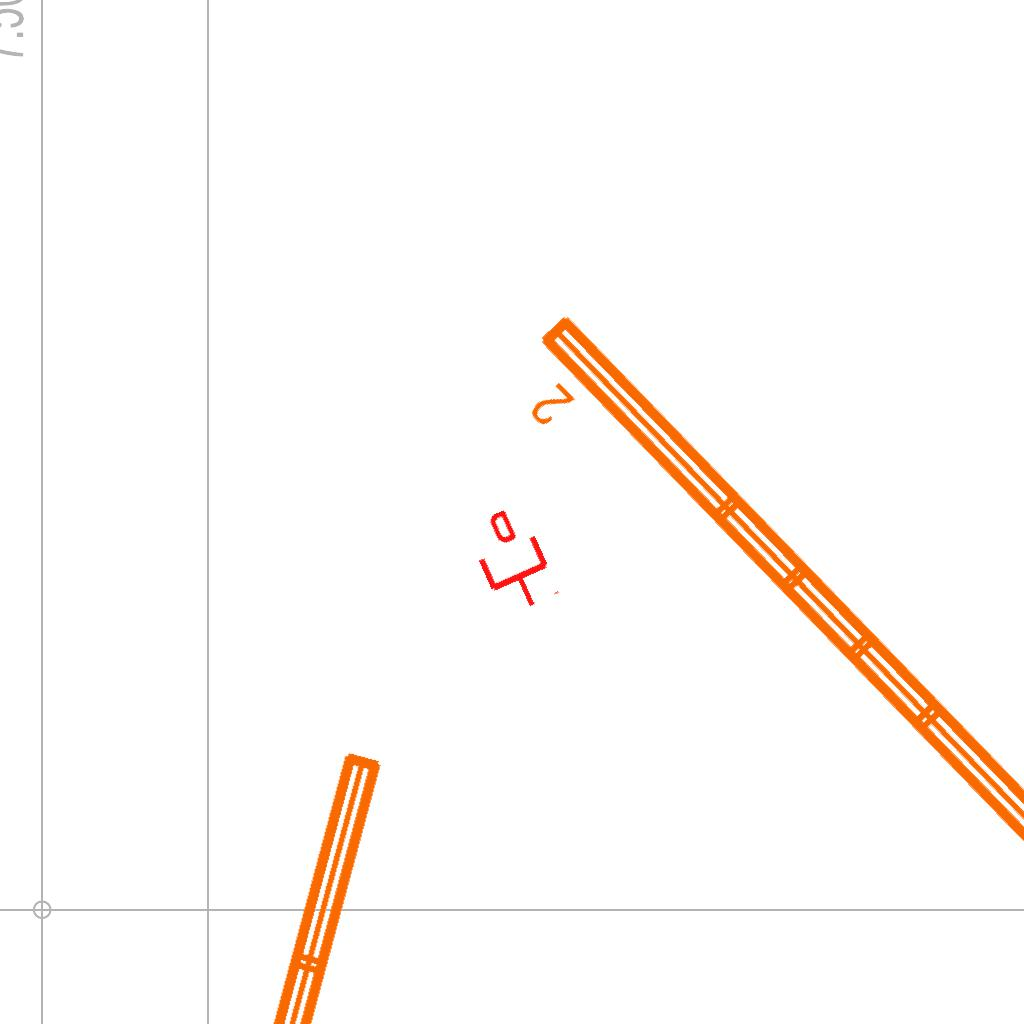Ambulanz_Pendelleuchte_LED: (487, 299, 1024, 935), (136, 738, 446, 1024)
Datenanschluss_einfach: (460, 501, 565, 621)
